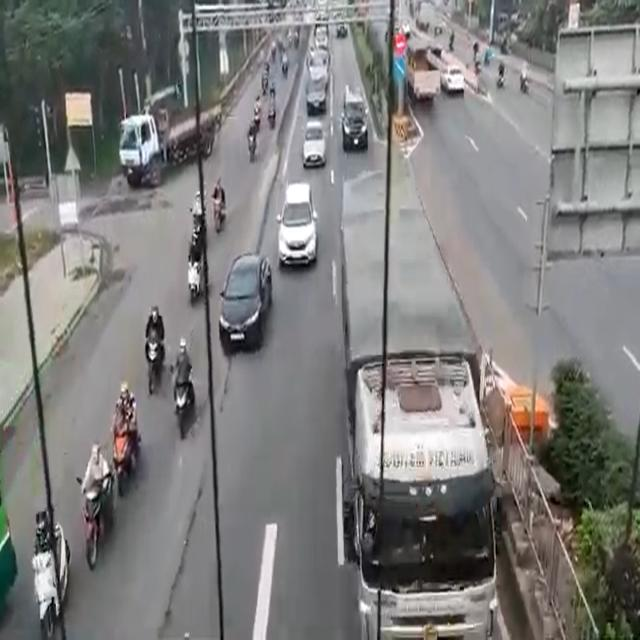car: (224, 252, 265, 346), (280, 180, 318, 269), (342, 92, 364, 154), (304, 121, 324, 161), (307, 70, 323, 108)
motor: (78, 478, 99, 566), (32, 556, 52, 634), (139, 327, 162, 394), (109, 426, 131, 494), (187, 234, 201, 315), (209, 180, 227, 242), (177, 380, 190, 439), (250, 121, 256, 162)
truck: (341, 187, 492, 636), (120, 113, 212, 161)
